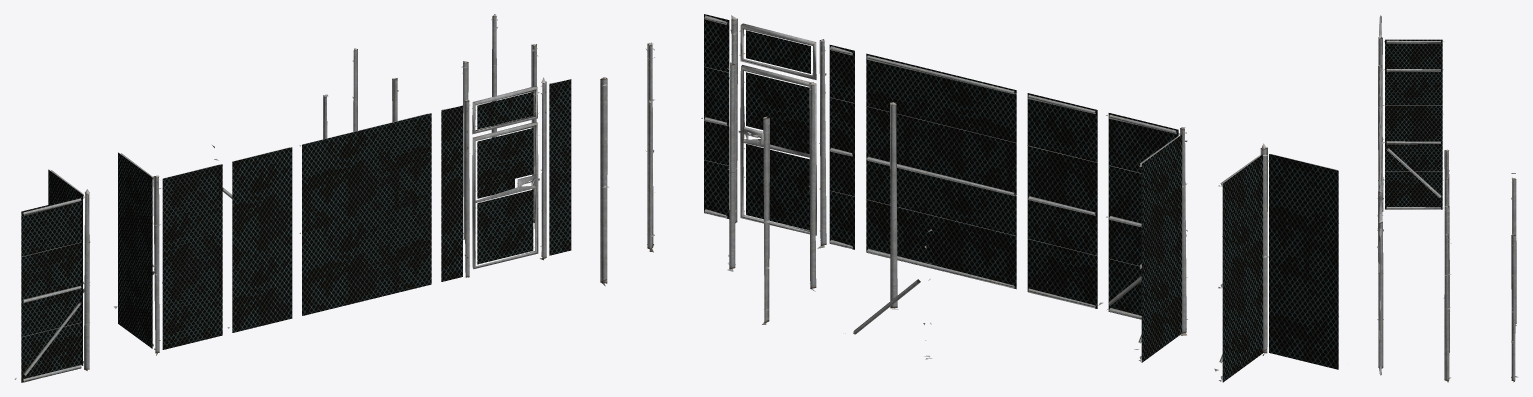
The picture shows the model from 3 angles, left to right: view 1: azimuth 30°, elevation 25°; view 2: azimuth 150°, elevation 25°; view 3: azimuth 270°, elevation 25°; orthographic projection. The views are drawn at different scales.
Visible parts, largest first — view 1: modular_chainlink_fence_door_latch, modular_chainlink_fence_door_latch.001; view 2: modular_chainlink_fence_door_latch, modular_chainlink_fence_door_latch.001; view 3: modular_chainlink_fence_door_latch, modular_chainlink_fence_door_latch.001.
Part boxes in pixels (x1,y1,x2,y2): modular_chainlink_fence_door_latch: (21, 79, 571, 382); modular_chainlink_fence_door_latch.001: (14, 14, 559, 382); modular_chainlink_fence_door_latch: (704, 14, 1338, 382); modular_chainlink_fence_door_latch.001: (600, 15, 1338, 381); modular_chainlink_fence_door_latch: (1385, 39, 1442, 209); modular_chainlink_fence_door_latch.001: (1377, 15, 1518, 382).
Bounding box in the file's own units: 8.12 × 2.51 × 2.13.
2 materials, 2 textured.
